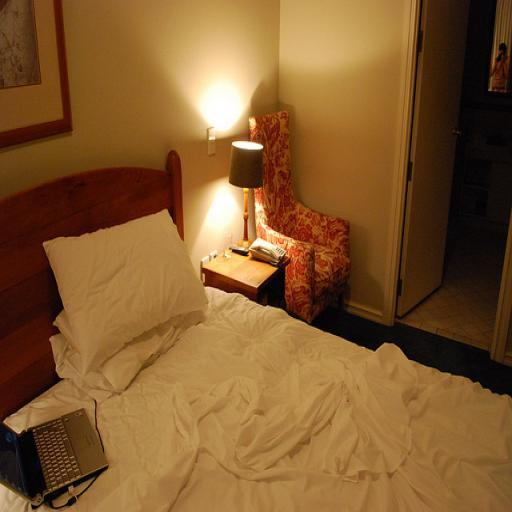bed: (0, 134, 503, 512)
